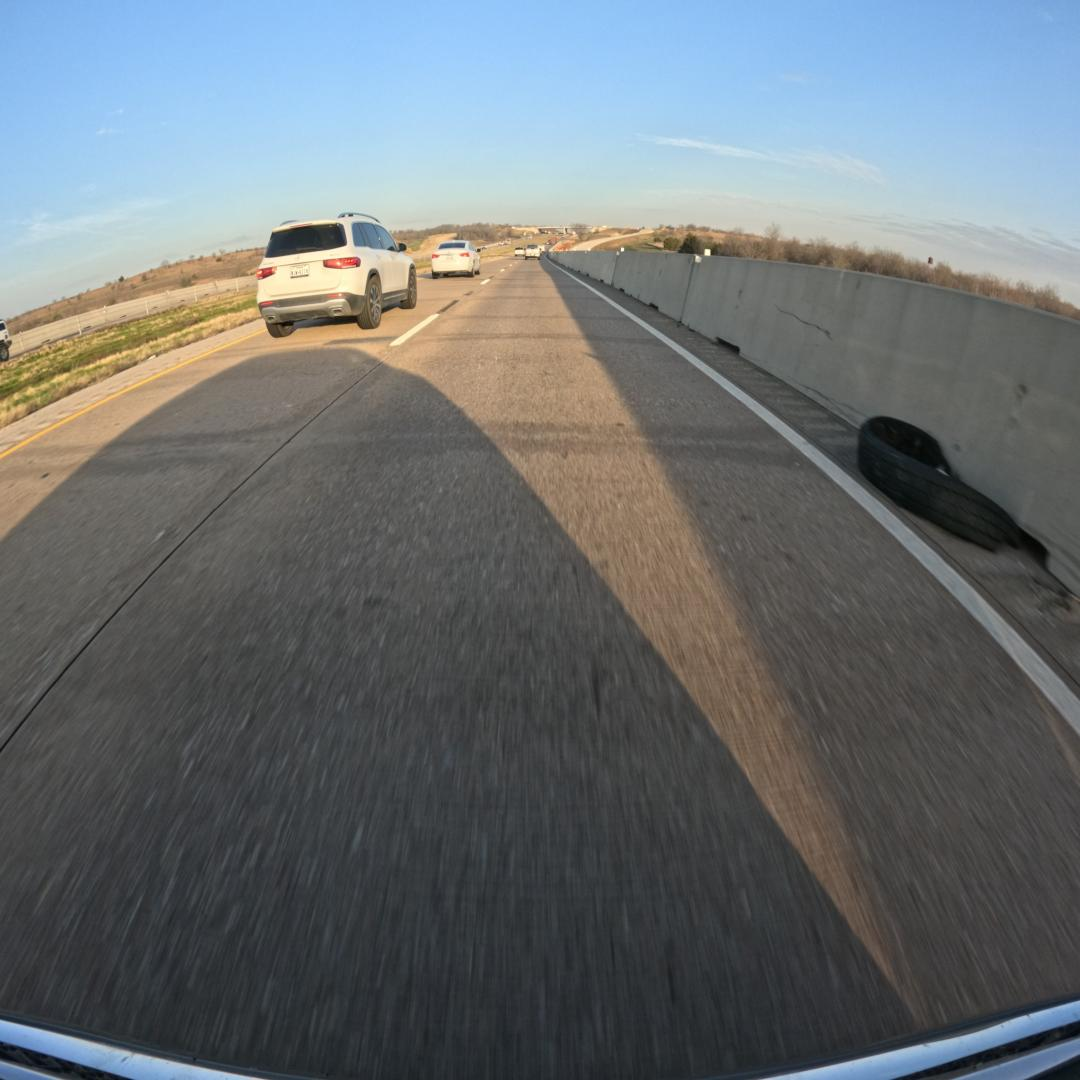lane0: (0, 259, 1080, 1076)
lane1: (0, 258, 514, 750)
